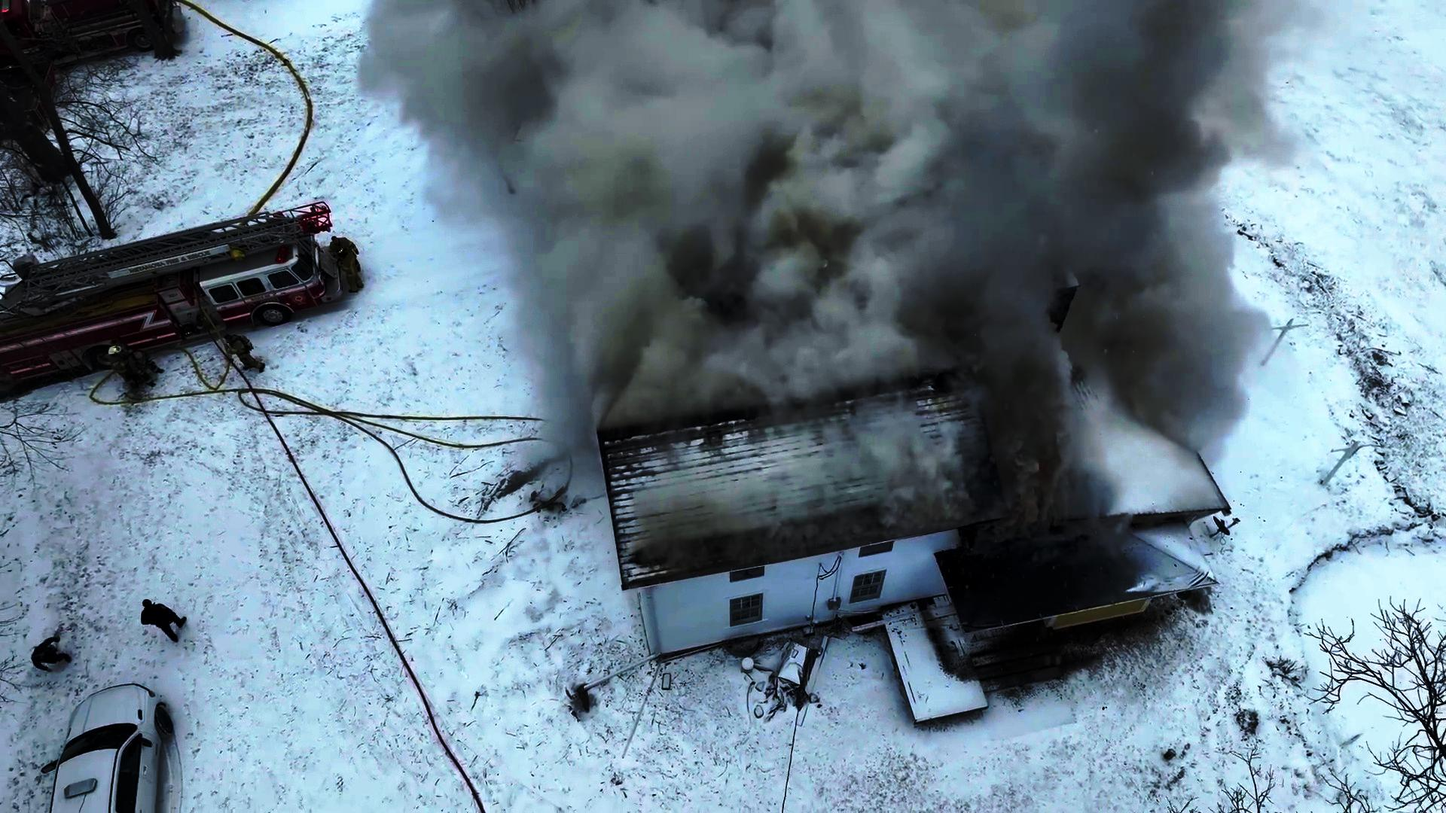smoke: (934, 236, 1034, 521)
